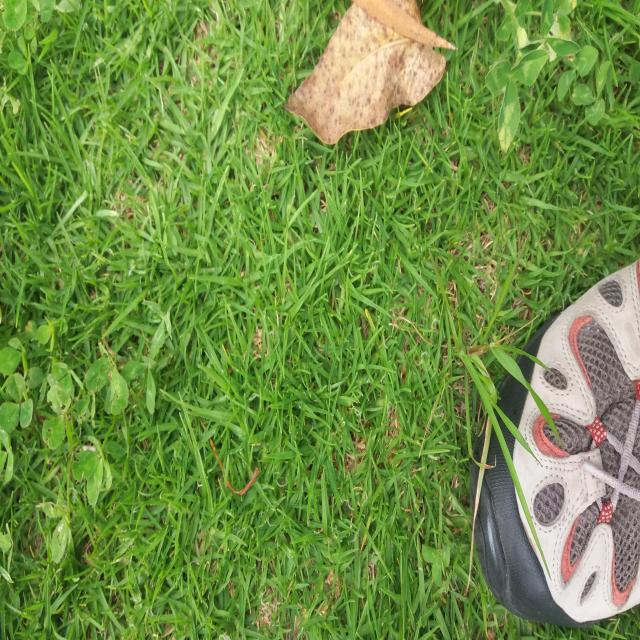Four Leaf Clover: (72, 435, 112, 508)
